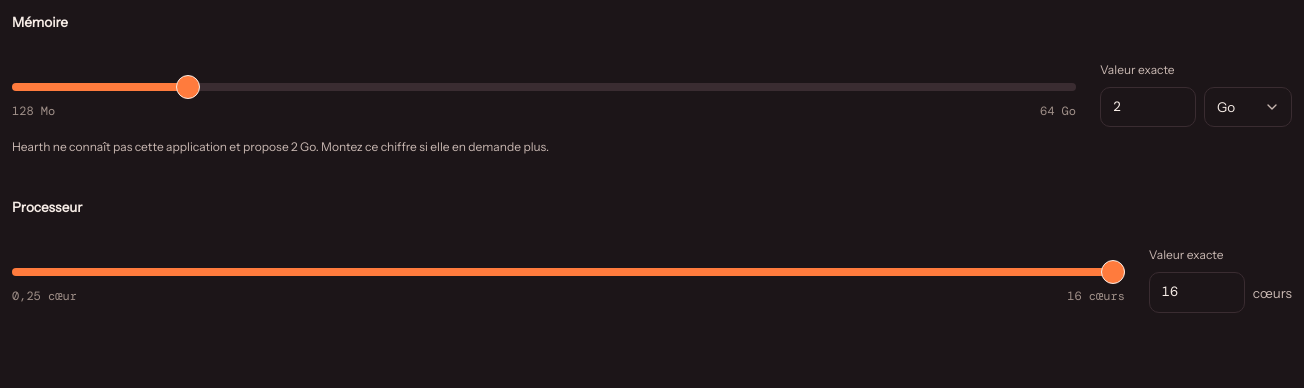
it: ResourceSliders (HRT-146) › refuses an empty memory on the spot and is no longer valid
Clear the field labelled "Valeur exacte" next to "64 Go" at (1148, 107), box [1101,88,1195,126]
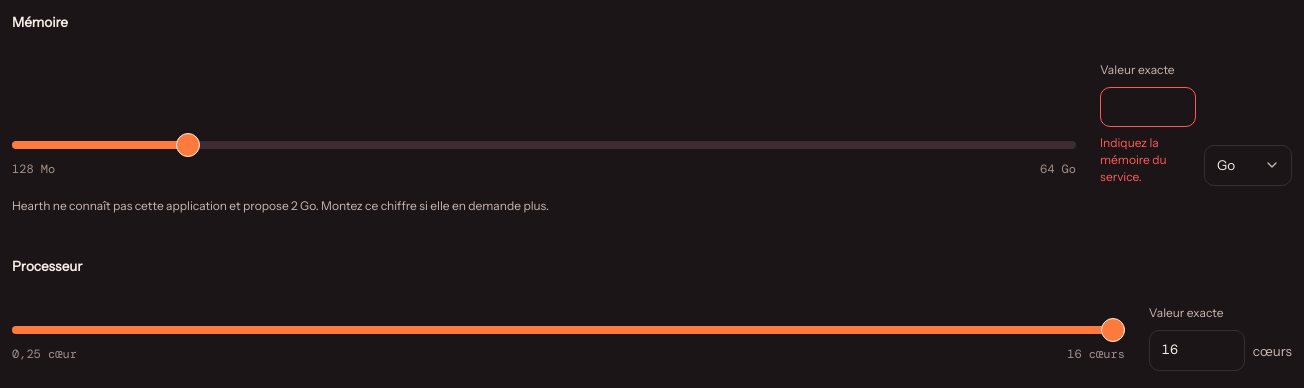
Result: the text "Indiquez la mémoire du service." is shown at [1100,136,1167,184]
